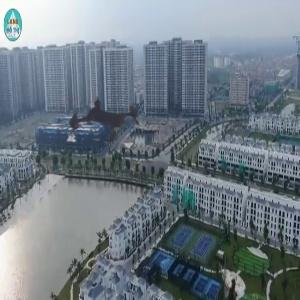drone: (47, 60, 171, 184)
